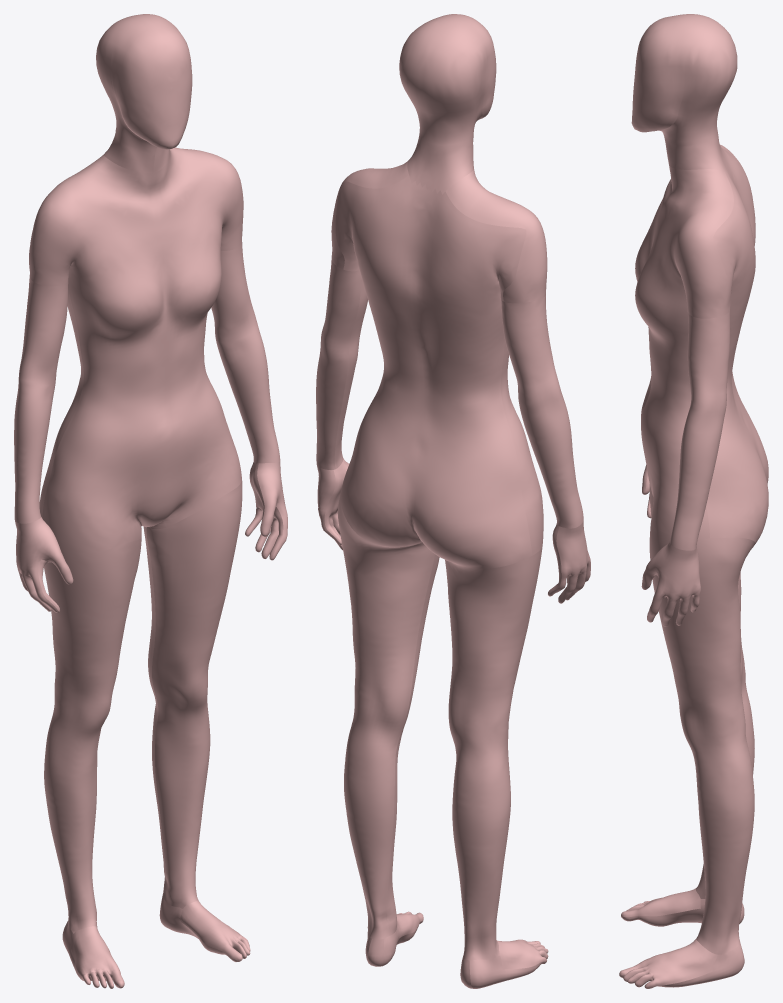
3 renders of one model, left to right at view 1: azimuth 30°, elevation 25°; view 2: azimuth 150°, elevation 25°; view 3: azimuth 270°, elevation 25°, orthographic.
Visible parts, largest first — view 1: Obj3d66_15474118_2_973; view 2: Obj3d66_15474118_2_973; view 3: Obj3d66_15474118_2_973.
Boxes of the visible parts, x1,y1,x2,y2 form: Obj3d66_15474118_2_973: (14,14,287,988); Obj3d66_15474118_2_973: (316,14,590,988); Obj3d66_15474118_2_973: (619,14,768,988).
Size of the model in its own units: 0.511 by 1.75 by 0.2542.
